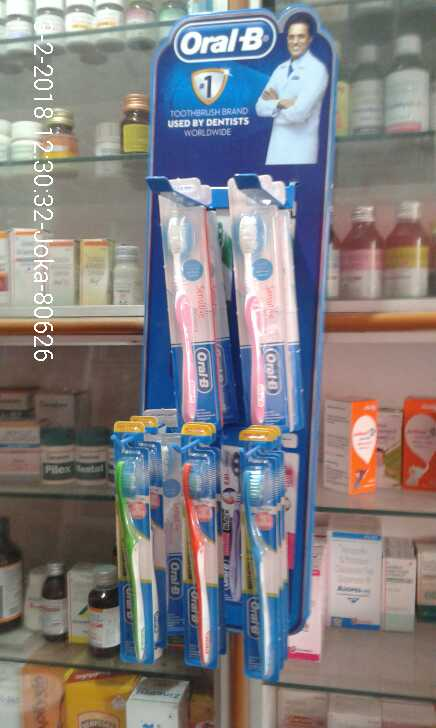oralb: (225, 170, 293, 436), (153, 172, 223, 429), (107, 419, 159, 667), (238, 429, 284, 683), (179, 424, 220, 666)
